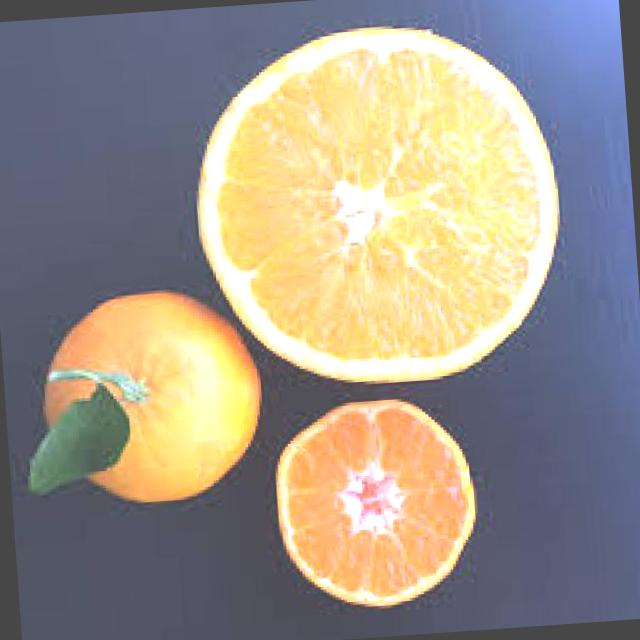Orange: (185, 11, 573, 395), (18, 280, 271, 510), (271, 391, 484, 612)
